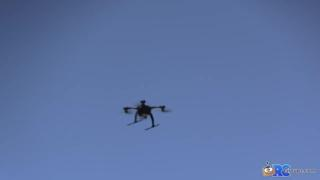UAV: (123, 100, 173, 130)
